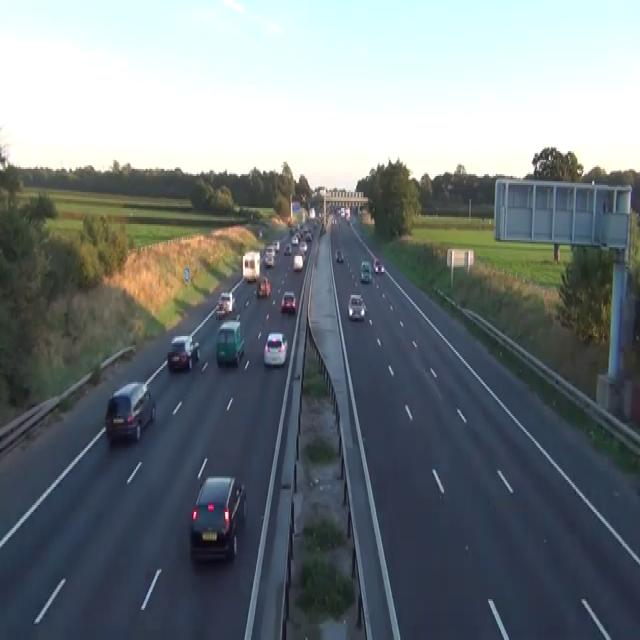Car: (190, 474, 247, 562), (105, 380, 156, 442), (215, 320, 244, 366), (167, 334, 200, 370), (263, 331, 287, 366), (347, 293, 367, 320), (218, 290, 235, 313), (280, 290, 296, 313), (256, 275, 270, 297), (360, 260, 371, 282), (214, 300, 227, 318), (292, 254, 303, 270), (373, 258, 384, 274), (264, 250, 275, 266), (335, 247, 343, 261), (283, 244, 291, 256), (299, 240, 307, 252), (373, 258, 380, 270), (291, 233, 299, 243), (272, 240, 279, 251), (319, 224, 326, 235), (305, 231, 312, 242), (266, 246, 275, 254), (340, 206, 345, 217), (331, 215, 336, 224), (259, 228, 262, 236)
Truck: (242, 250, 260, 282)
